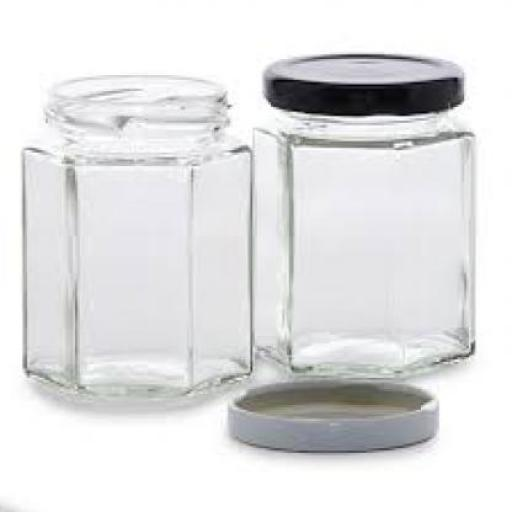glass: (23, 76, 255, 396), (255, 104, 480, 376)
metal: (232, 375, 441, 448), (266, 50, 466, 116)
